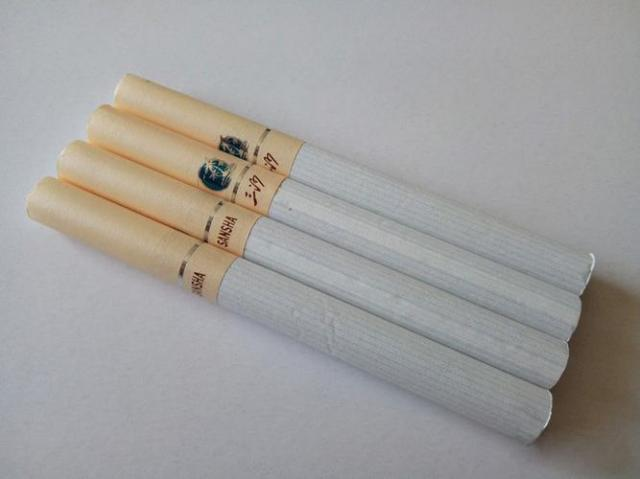Cigarette: (26, 176, 554, 447), (57, 138, 571, 392), (88, 102, 584, 344), (112, 71, 598, 297)
